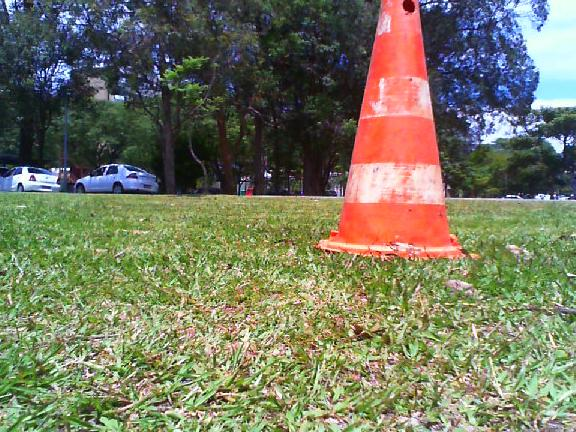0 cone: (314, 0, 479, 260)
